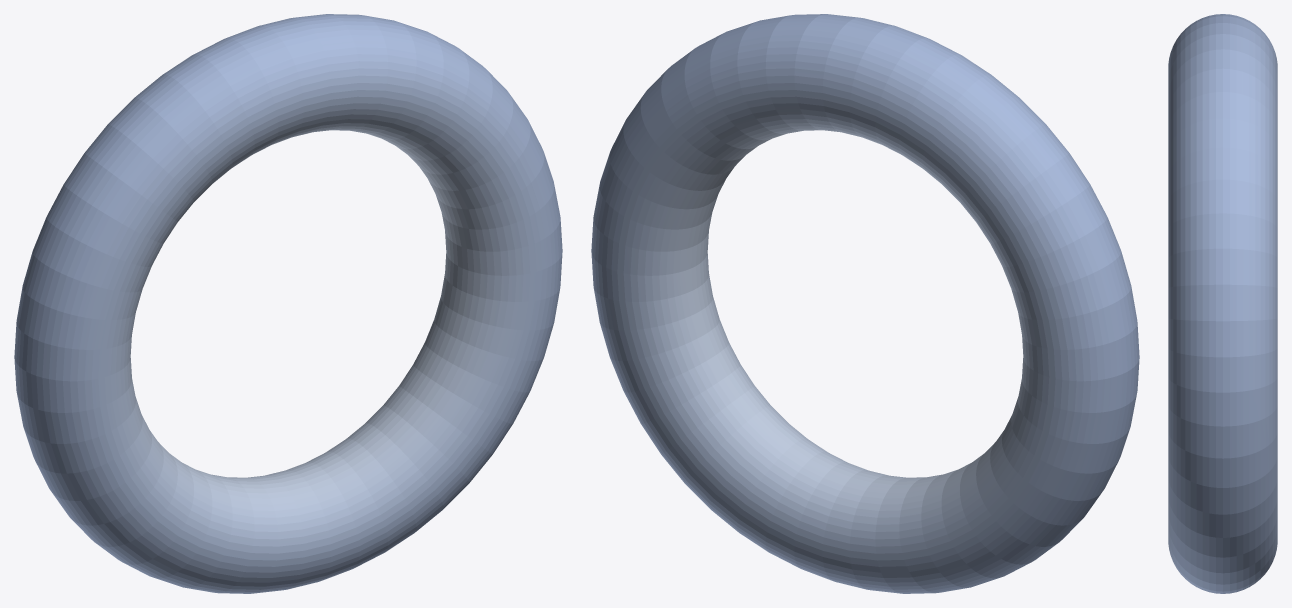
3 views of the same model, side by side, from view 1: azimuth 30°, elevation 25°; view 2: azimuth 150°, elevation 25°; view 3: azimuth 270°, elevation 25° (orthographic). The views are drawn at different scales.
Parts seen in each view (by area): view 1: world; view 2: world; view 3: world.
Part boxes in pixels (<box>): world: <box>14,14,562,593</box>; world: <box>591,14,1139,593</box>; world: <box>1168,14,1277,593</box>.
Bounding box in the file's own units: 24.67 × 24.62 × 4.66.
